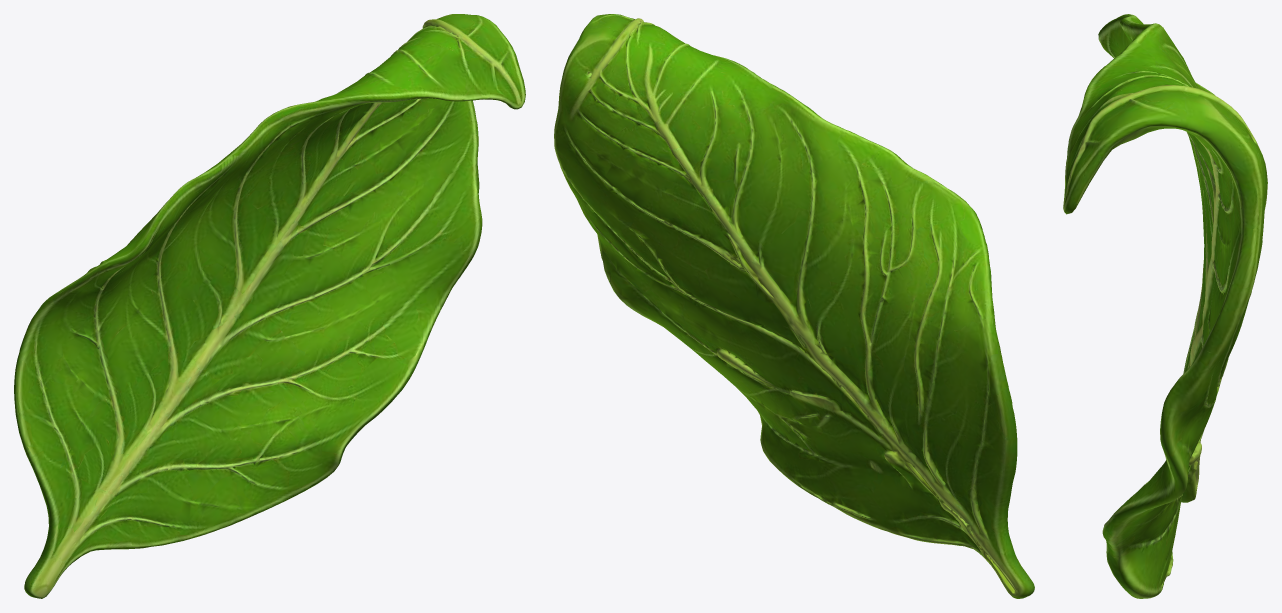
3 views of the same model, side by side, from view 1: azimuth 30°, elevation 25°; view 2: azimuth 150°, elevation 25°; view 3: azimuth 270°, elevation 25° (orthographic). The views are drawn at different scales.
Size of the model in its own units: 1.91 by 1.88 by 0.4945.
1 material, 1 textured.
